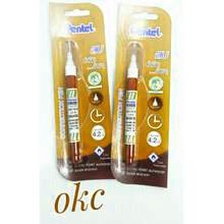book: (46, 0, 122, 183), (108, 0, 172, 190)
correction_fluid: (120, 39, 145, 168), (60, 37, 83, 165)
